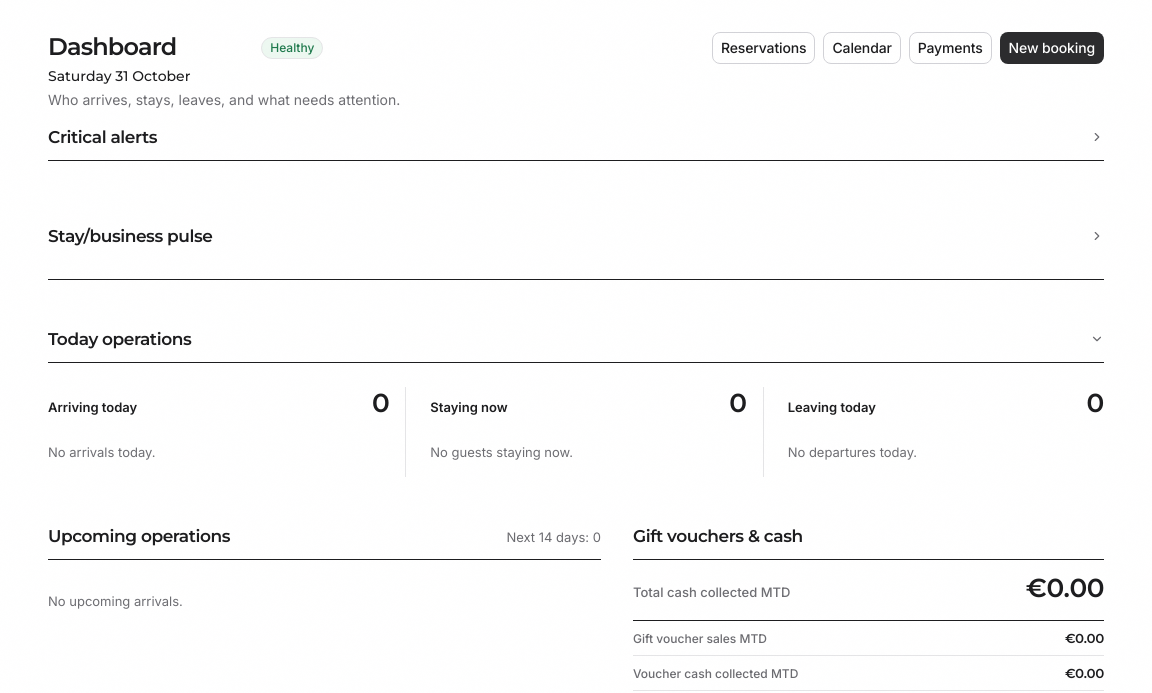
it: OpsDashboard home migration › keeps Resolve visible on 403 and does not turn the page into a dashboard error
The width and height of the screenshot is (1152, 693).
Click the button "Critical alerts". click: {"x": 103, "y": 137}
box: [48,126,1104,161]
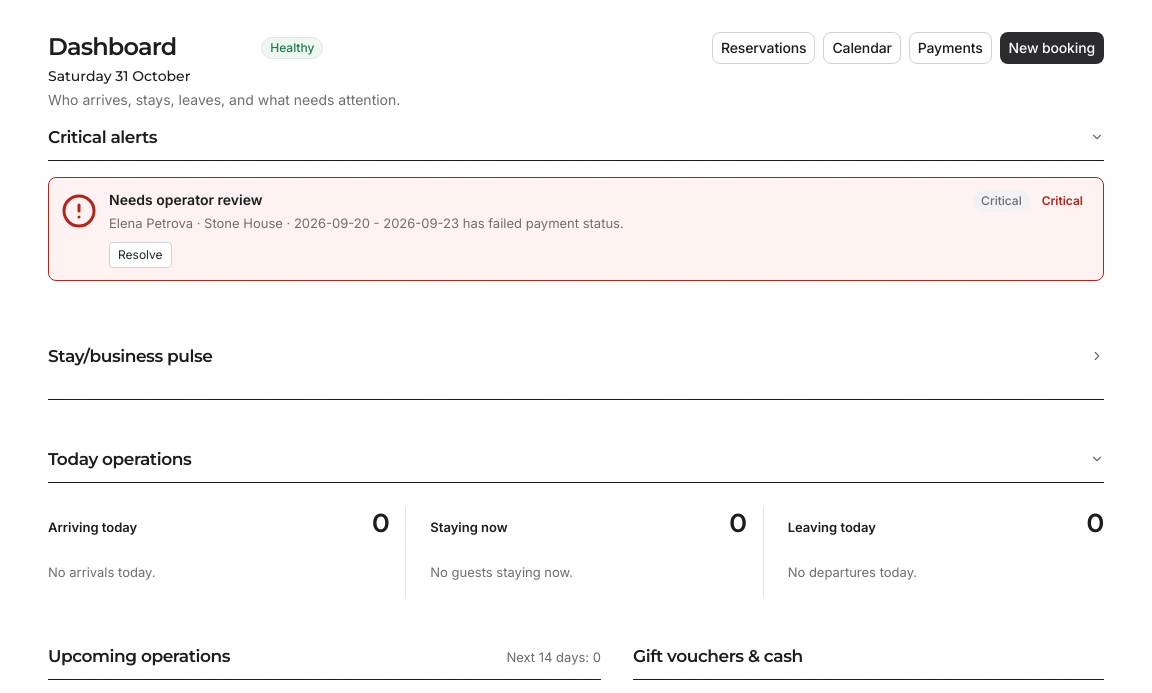
Click the button "Stay/business pulse". click: {"x": 130, "y": 356}
box: [48,345,1104,367]
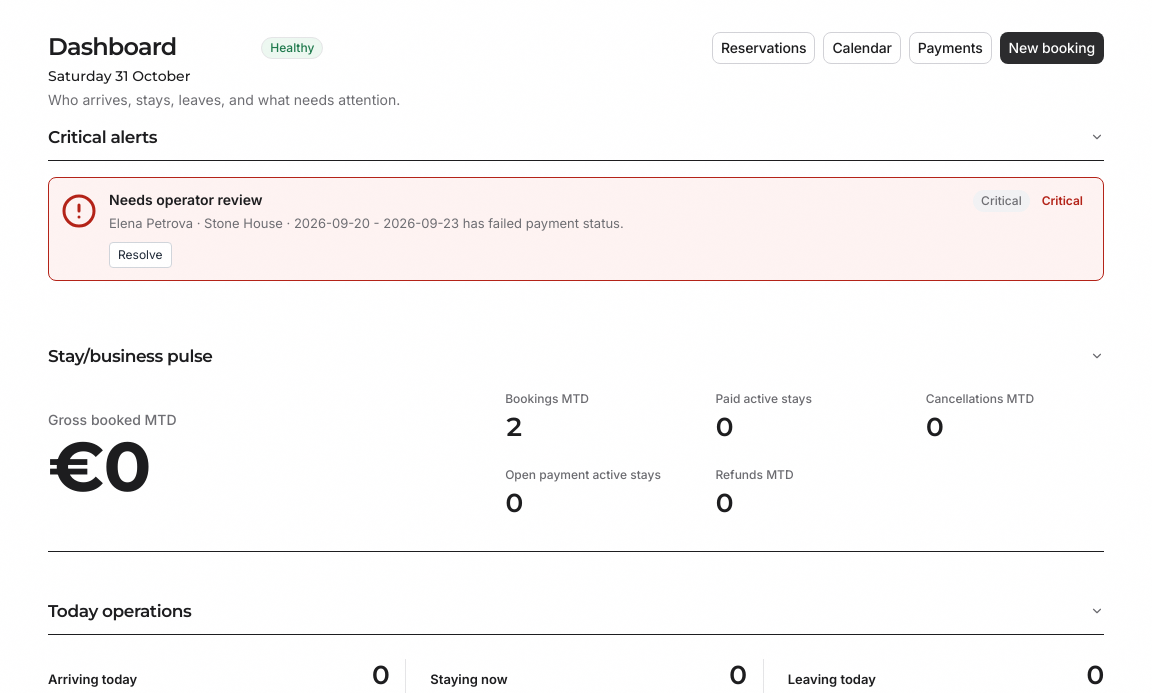
Expected: the button "Resolve" is shown
Click the button "Resolve". click: {"x": 140, "y": 255}
box: [109,242,172,268]
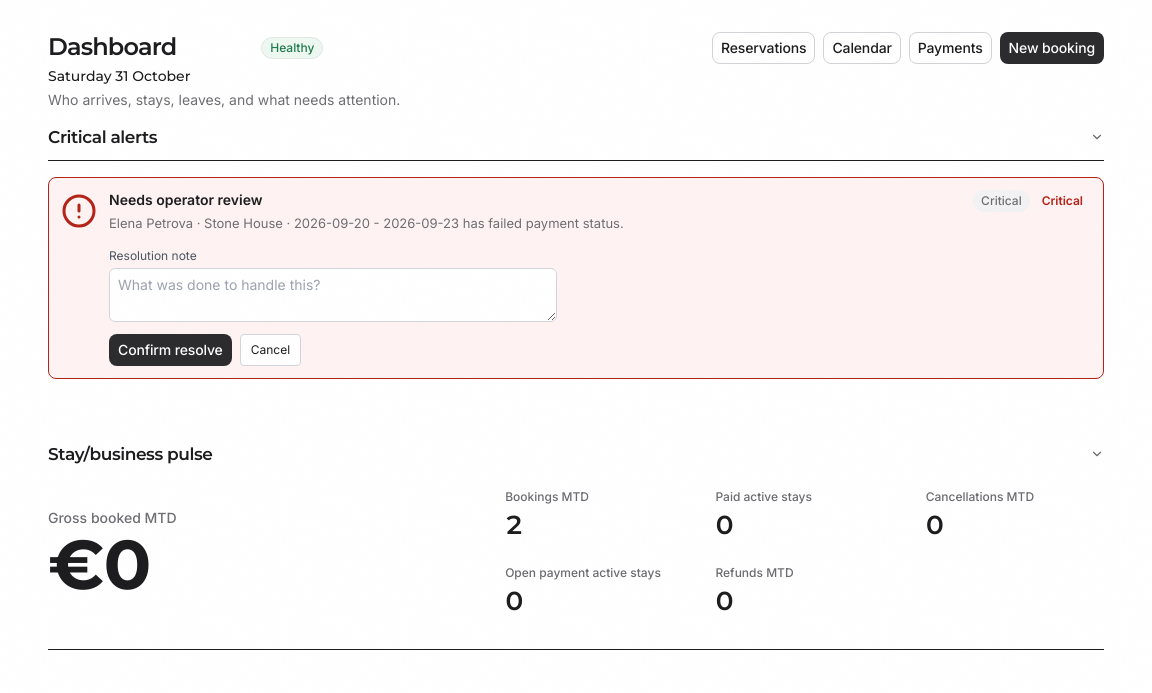
Type "Tried to resolve" into the text box with placeholder "What was done to handle this?". click: {"x": 333, "y": 295}
box: [109,268,557,322]
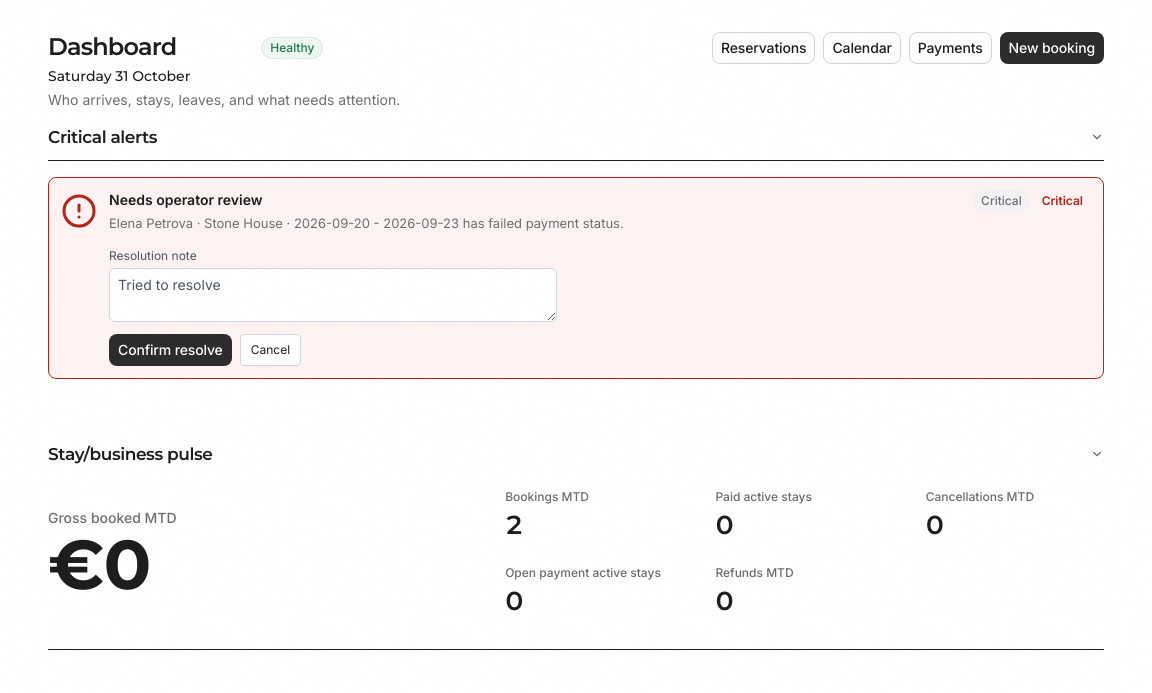
Click the button "Confirm resolve". click: {"x": 170, "y": 350}
box: [109,334,232,366]
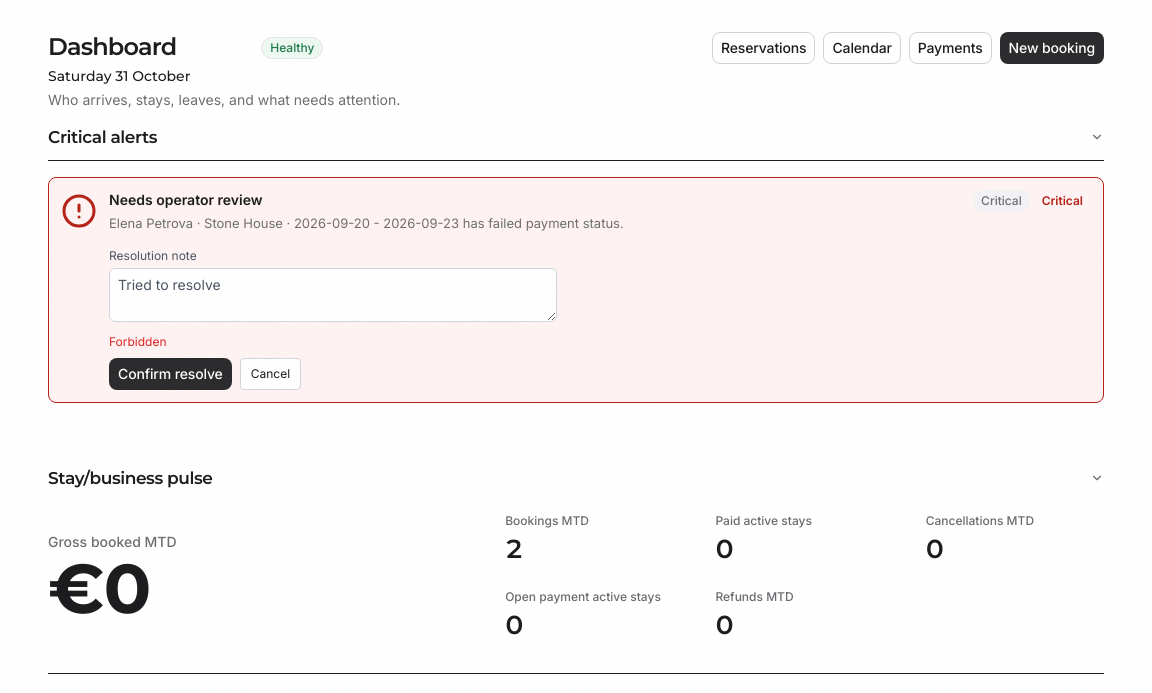
Expected: the button "Confirm resolve" is shown, [109,358,232,390]
Expected: the text "Needs operator review" is shown, [109,191,262,208]
Expected: the text "Forbidden" is shown, [109,334,166,349]
